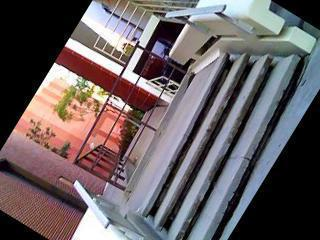Escaleras: (116, 16, 320, 240), (151, 0, 256, 53)
